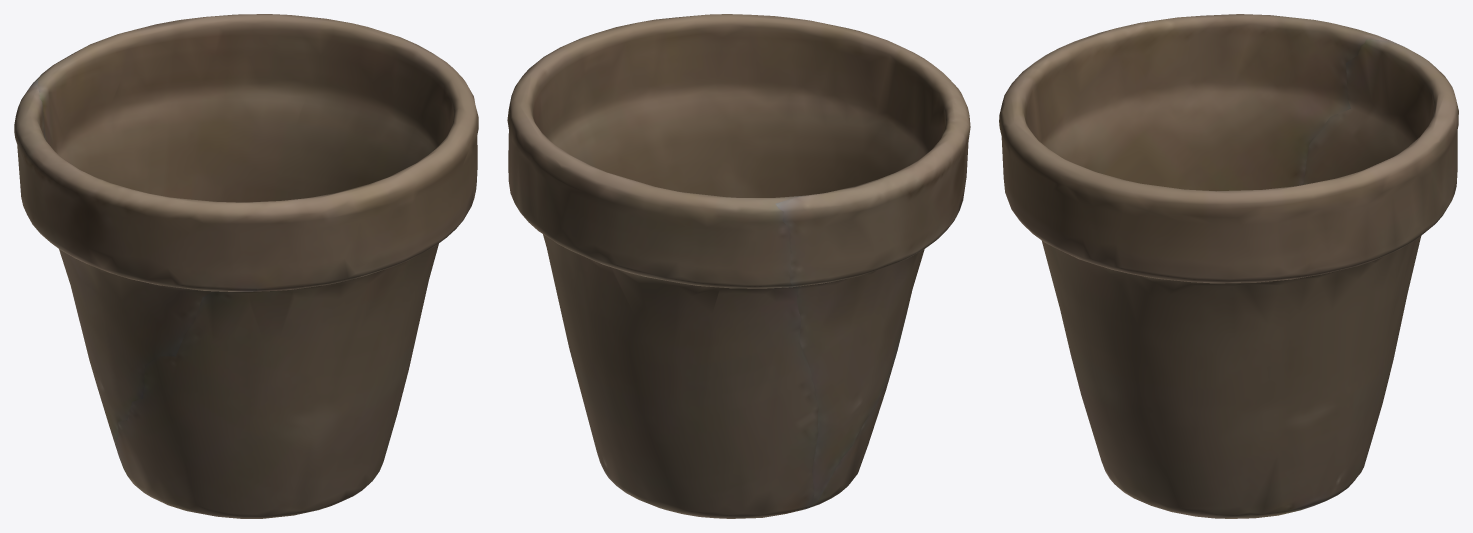
File: Central_Garden_Flower_Pot_Goo_425-high.glb
The picture shows the model from 3 angles, left to right: view 1: azimuth 30°, elevation 25°; view 2: azimuth 150°, elevation 25°; view 3: azimuth 270°, elevation 25°; orthographic projection.
Visible parts, largest first — view 1: Central_Garden_Flower_Pot_Goo_425; view 2: Central_Garden_Flower_Pot_Goo_425; view 3: Central_Garden_Flower_Pot_Goo_425.
Part boxes in pixels (x1,y1,x2,y2): Central_Garden_Flower_Pot_Goo_425: (14,14,478,518); Central_Garden_Flower_Pot_Goo_425: (507,14,970,518); Central_Garden_Flower_Pot_Goo_425: (999,14,1458,518).
Bounding box in the file's own units: 0.1153 × 0.1006 × 0.1136.
Materials: 1 (1 with a texture image).
